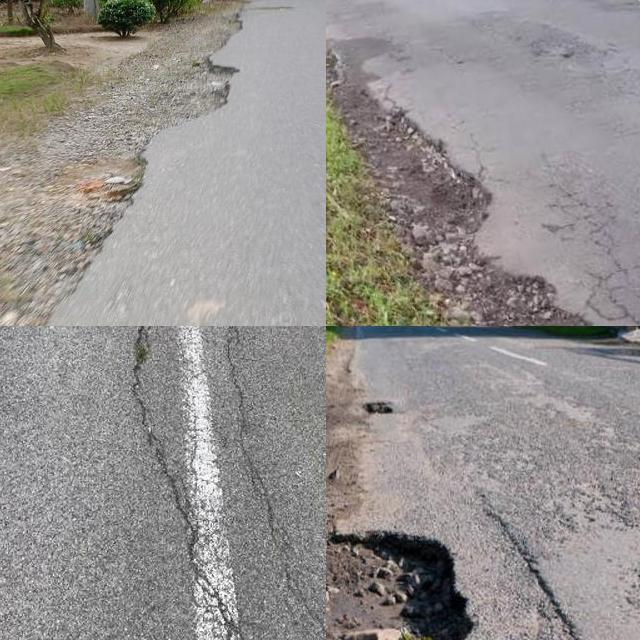Memanjang: (107, 326, 251, 640), (209, 326, 326, 640)
Pinggir: (0, 30, 263, 326), (337, 86, 605, 326), (326, 529, 481, 640)
